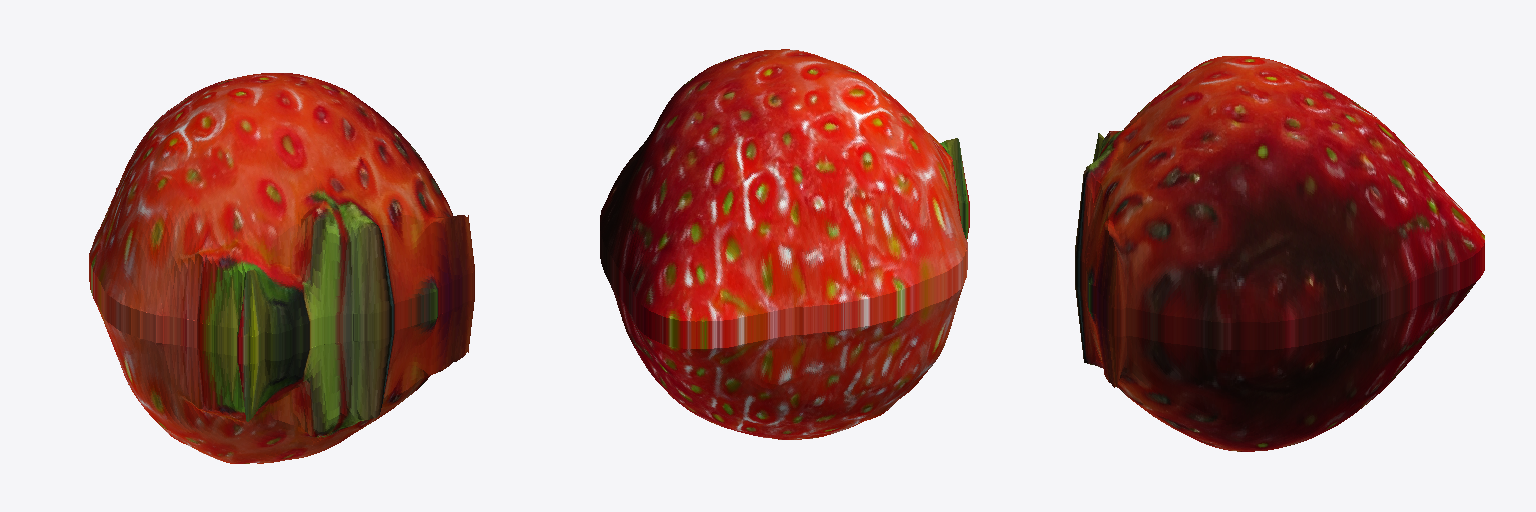
The picture shows the model from 3 angles: view 1: azimuth 30°, elevation 25°; view 2: azimuth 150°, elevation 25°; view 3: azimuth 270°, elevation 25°; orthographic projection.
Visible parts, largest first — view 1: Grid; view 2: Grid; view 3: Grid.
Boxes of the visible parts, <box> form: Grid: <box>89,73,474,463</box>; Grid: <box>600,49,969,439</box>; Grid: <box>1075,56,1484,451</box>.
Size of the model in its own units: 1.51 by 1.6 by 1.63.
Materials: 1 (1 with a texture image).